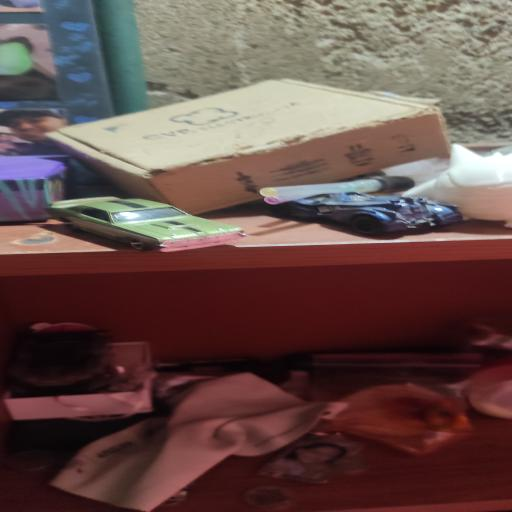Carrito: (48, 197, 245, 252)
